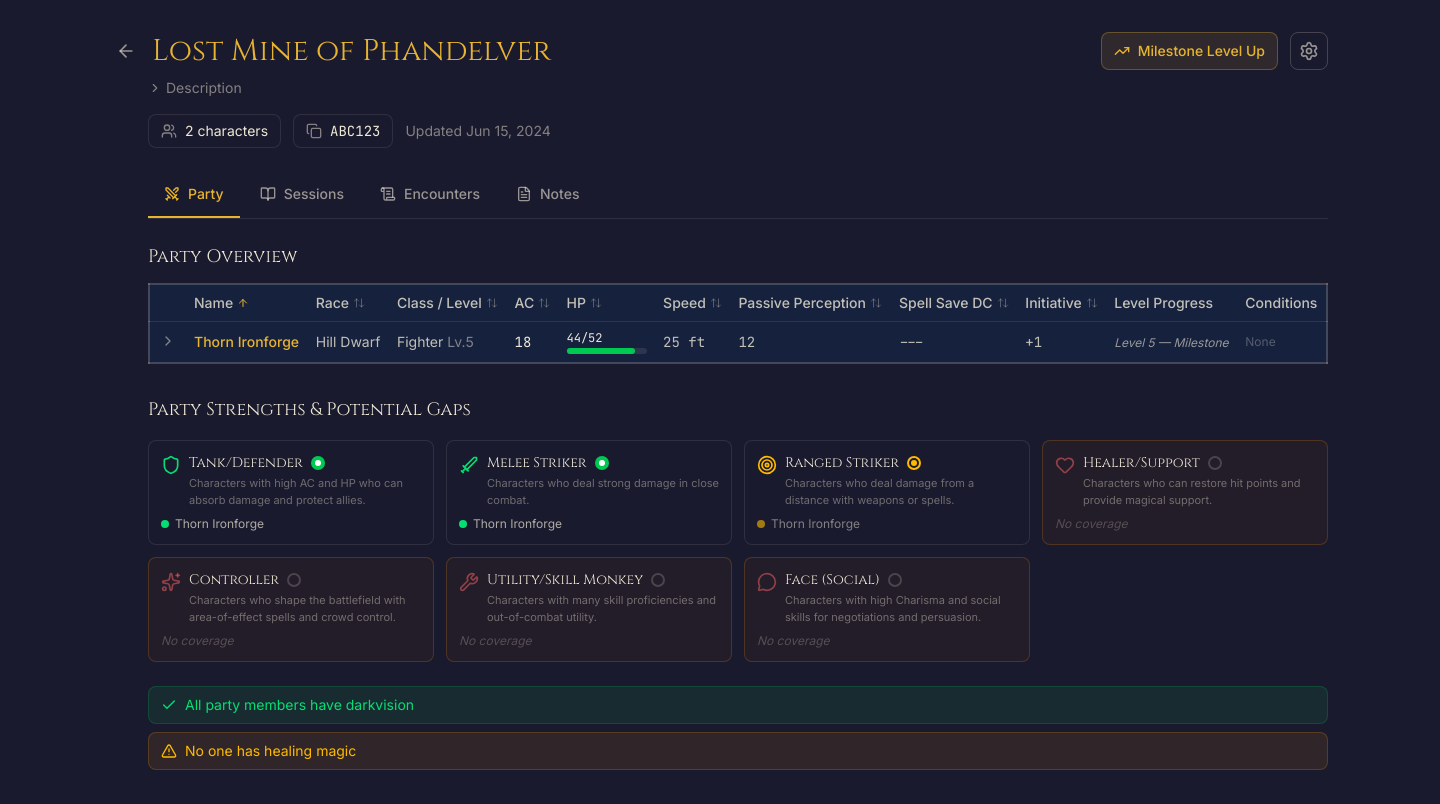
Scenario: CampaignDashboardPage › DM view › Notes tab renders LootTracker
The width and height of the screenshot is (1440, 804).
Expected: the heading "Lost Mine of Phandelver" is shown, x1=152 y1=31 x2=551 y2=71
Click the tab "Notes" at point(548, 195), box x1=500 y1=172 x2=595 y2=218
(page scrolled)
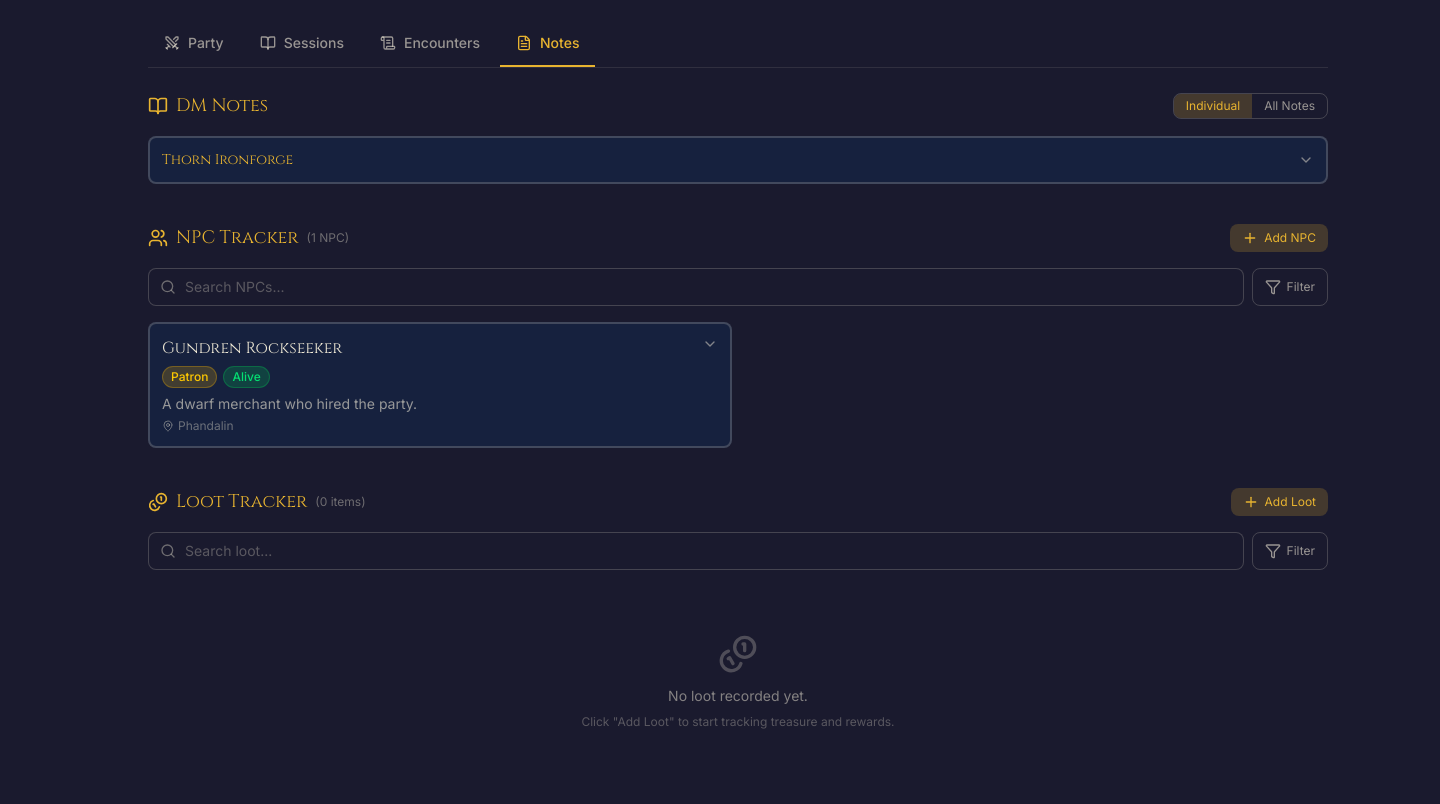
Expected: the element with test id "loot-tracker" is shown, x1=148 y1=488 x2=1328 y2=778
